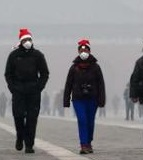person: (4, 27, 50, 154), (64, 38, 107, 154), (129, 46, 143, 107), (122, 81, 138, 121), (41, 91, 51, 116), (53, 93, 63, 117), (112, 95, 121, 115), (1, 93, 8, 117), (99, 107, 107, 118)
